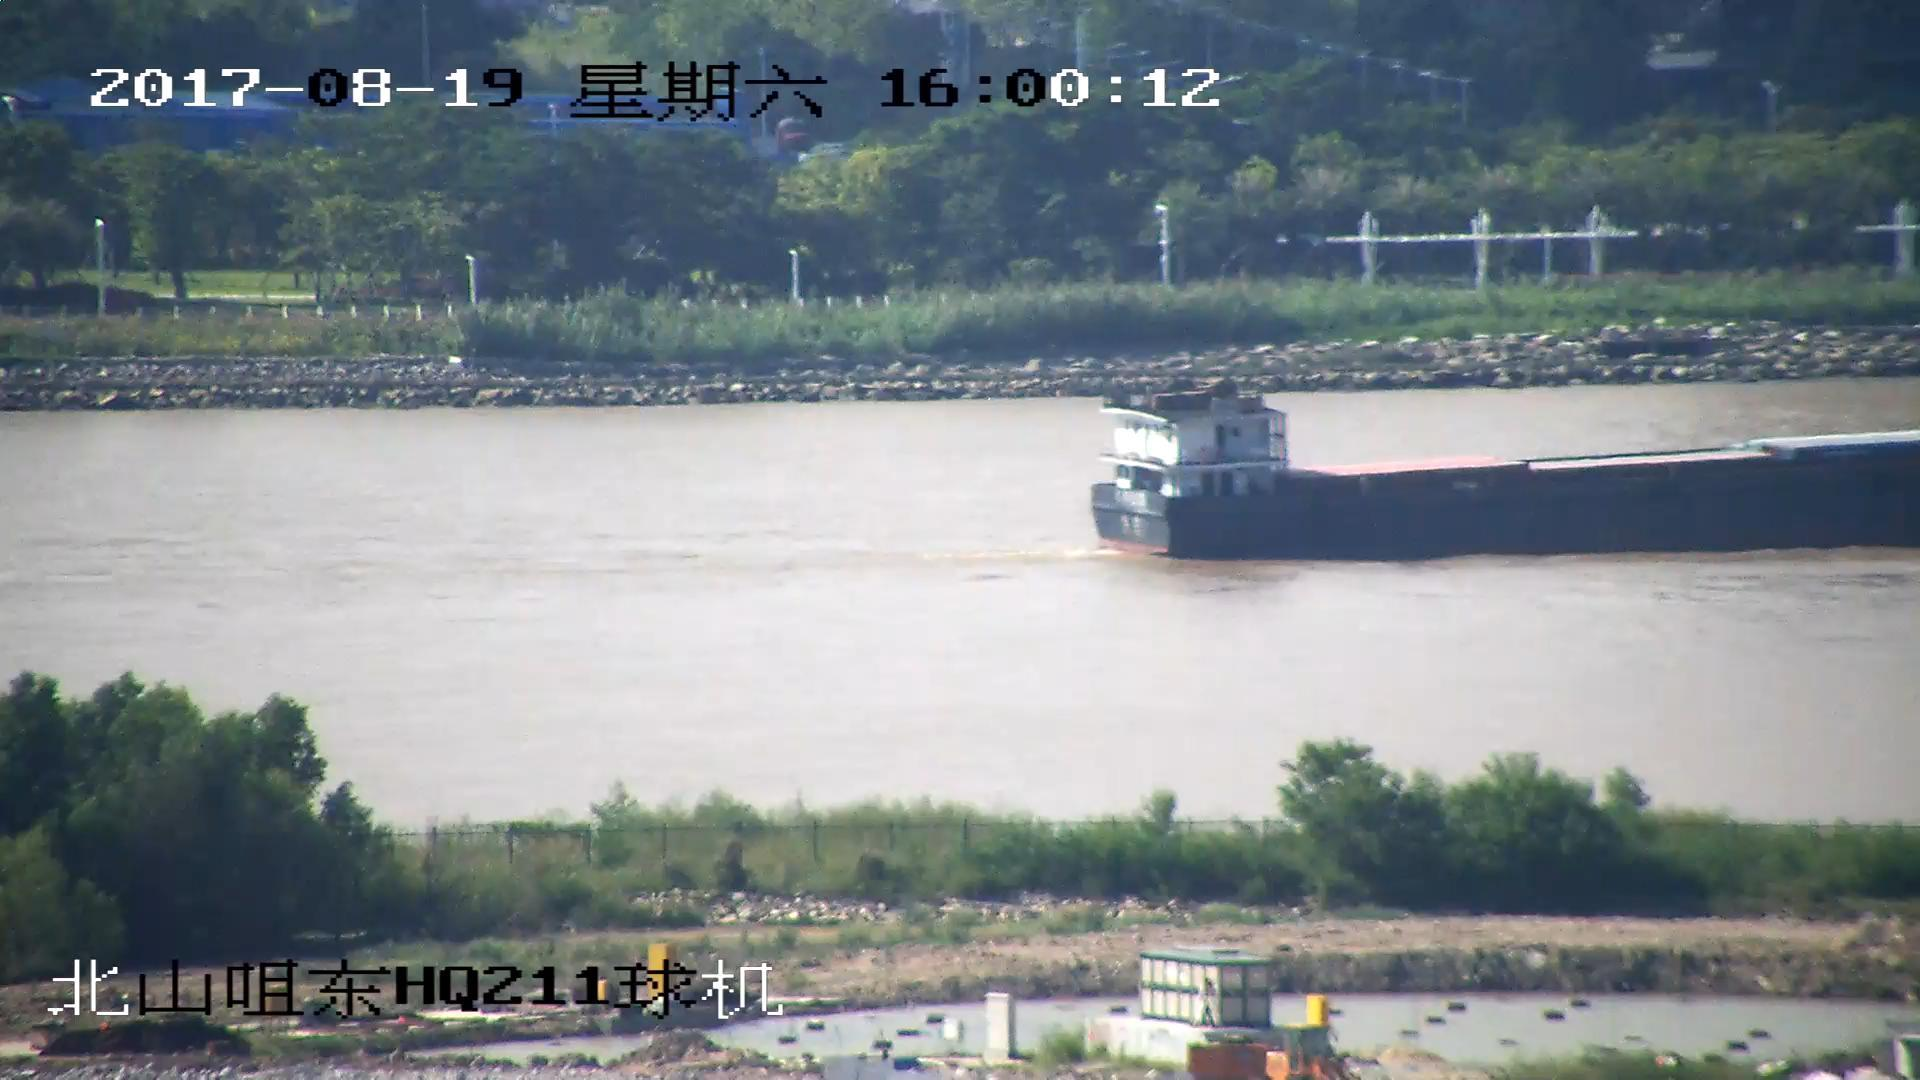Ship: (1091, 381, 1920, 560)
